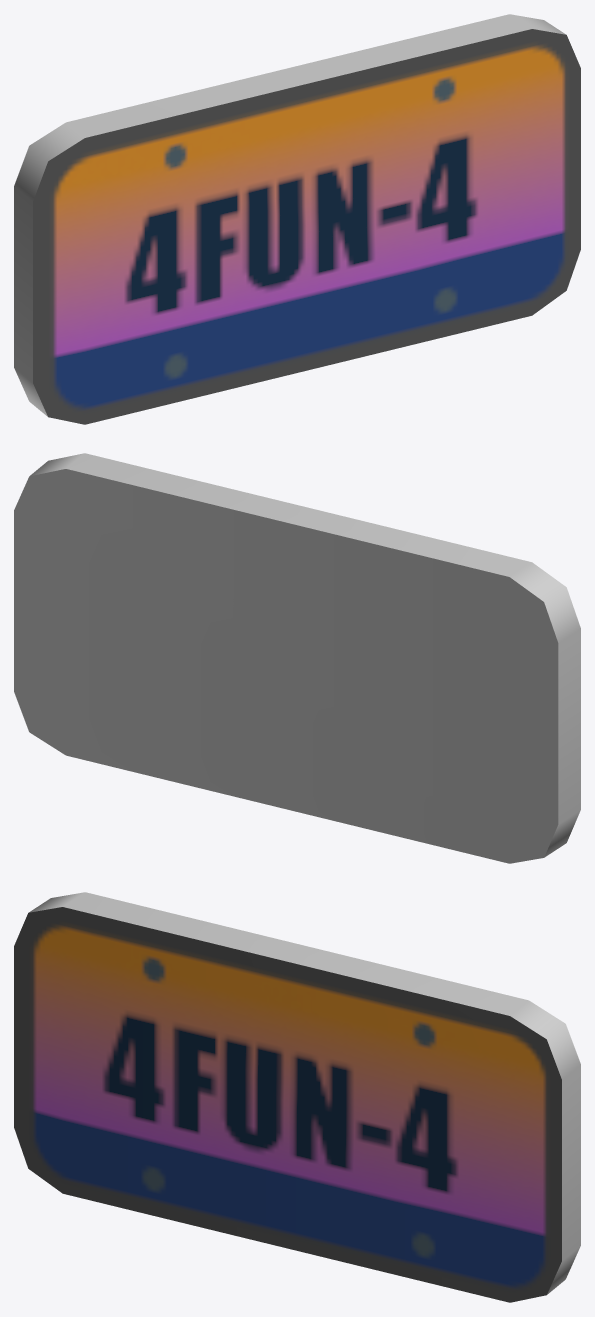
The model's file is Car_Number_22.fbx.
The picture shows the model from 3 angles, top to bottom: view 1: azimuth 30°, elevation 25°; view 2: azimuth 150°, elevation 25°; view 3: azimuth 330°, elevation 25°; orthographic projection.
Visible parts, largest first — view 1: Car_Number_22; view 2: Car_Number_22; view 3: Car_Number_22.
Boxes of the visible parts, x1,y1,x2,y2 form: Car_Number_22: [14, 14, 580, 424]; Car_Number_22: [14, 453, 580, 863]; Car_Number_22: [14, 892, 580, 1302].
Bounding box in the file's own units: 49.09 × 3.48 × 24.55.
